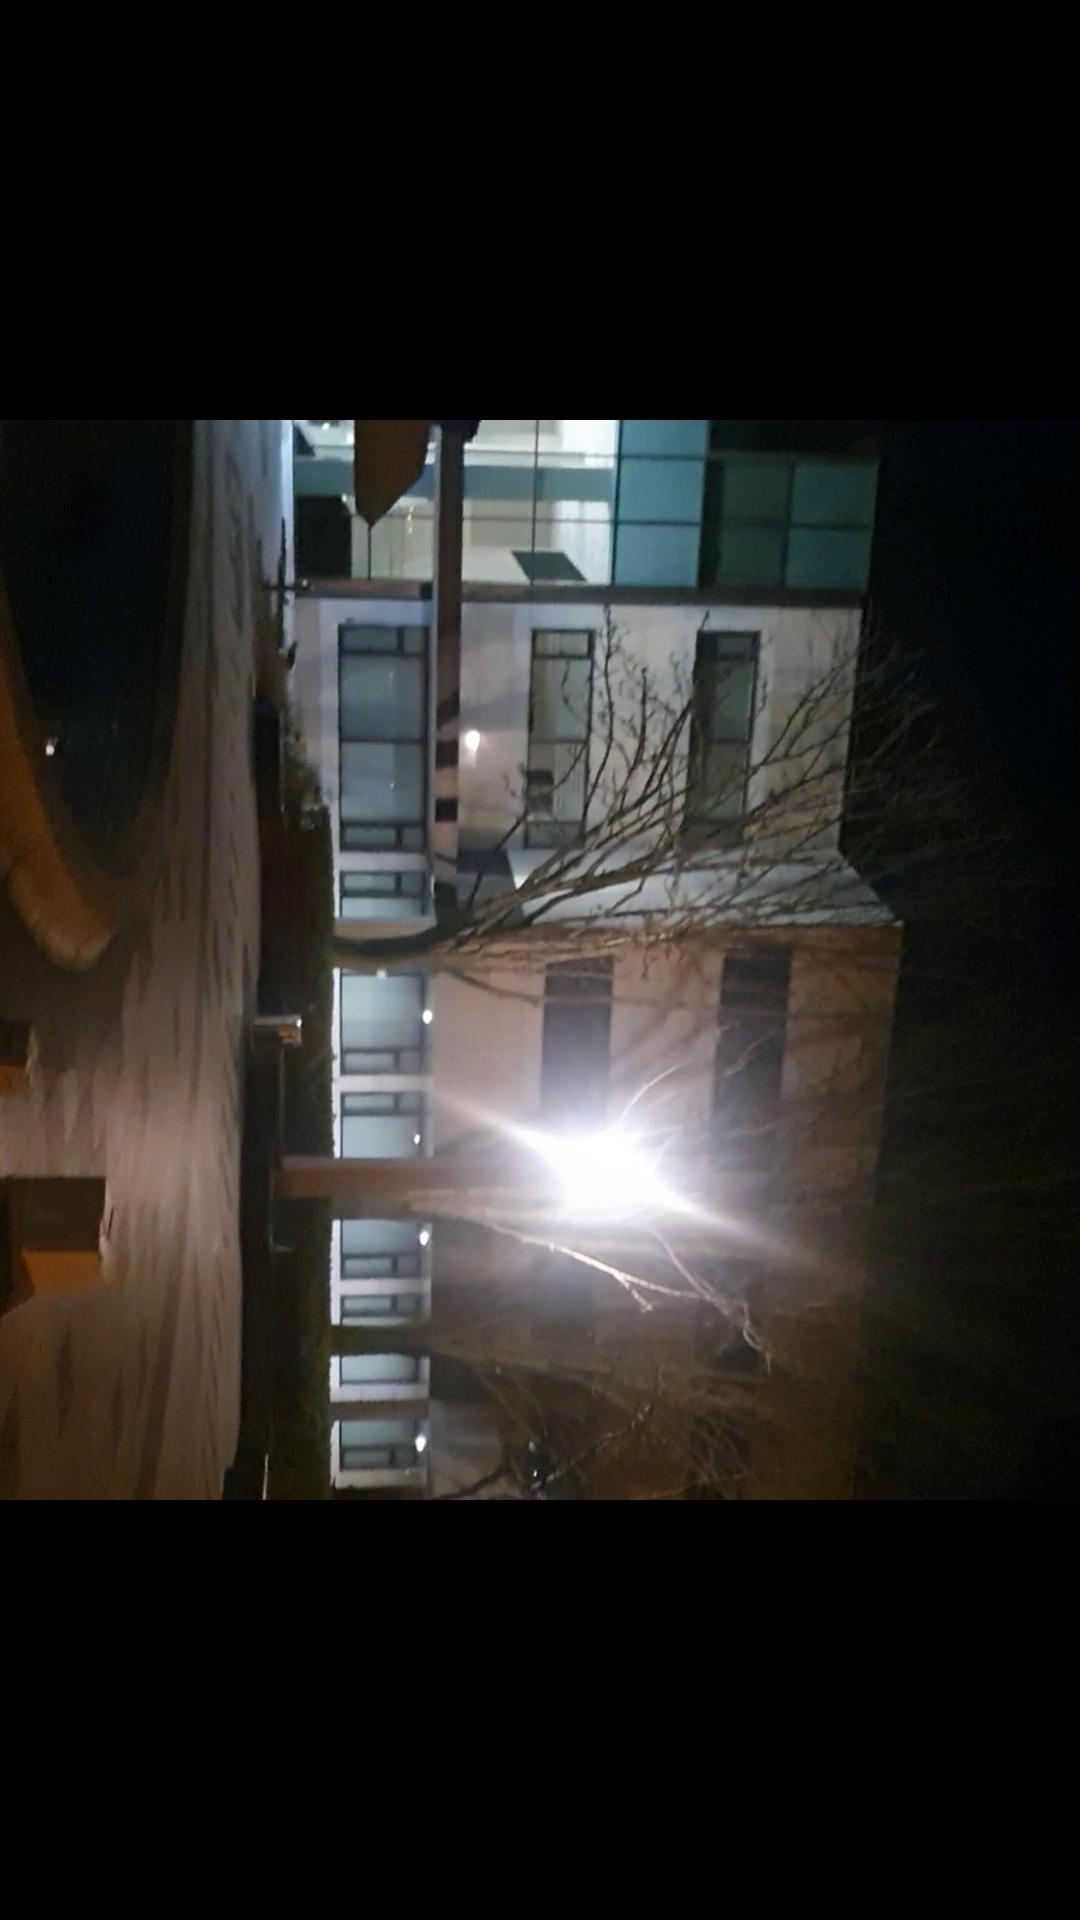Box: (0, 1168, 127, 1298), (0, 1015, 51, 1087)
